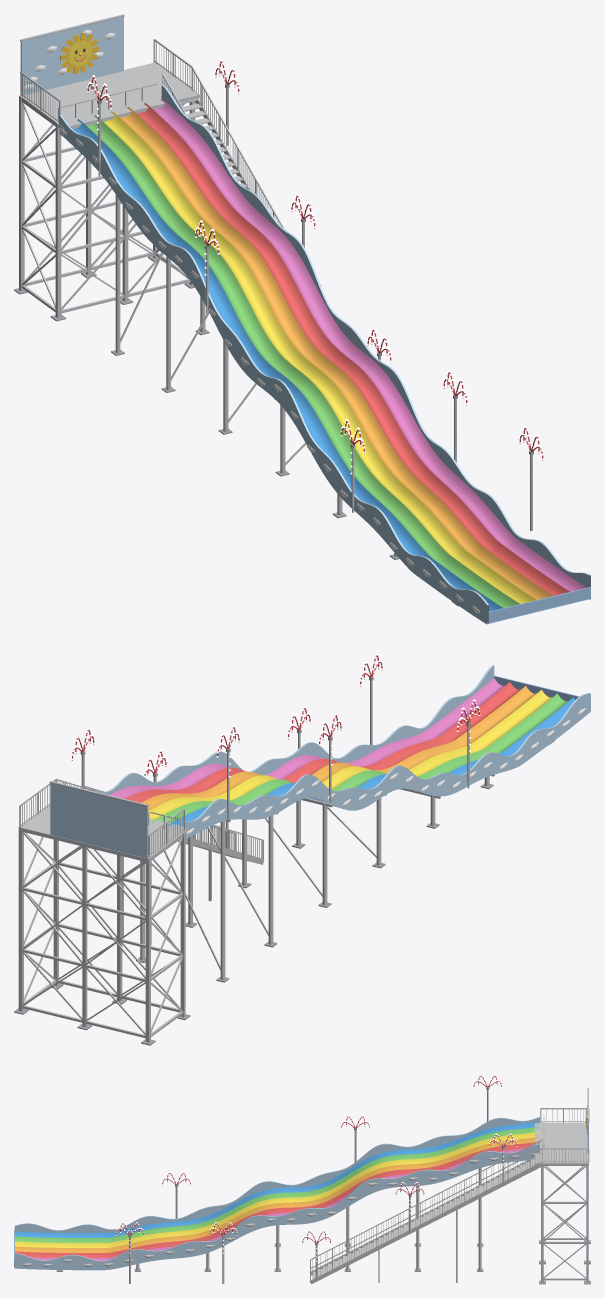
The picture shows the model from 3 angles, top to bottom: view 1: azimuth 30°, elevation 25°; view 2: azimuth 150°, elevation 25°; view 3: azimuth 270°, elevation 25°; orthographic projection. The views are drawn at different scales.
Parts seen in each view (by area): view 1: base; view 2: base; view 3: base.
Boxes of the visible parts, x1,y1,x2,y2 form: base: (14, 14, 590, 624); base: (14, 653, 590, 1045); base: (14, 1074, 590, 1284).
Size of the model in its own units: 6.62 by 11.96 by 37.08.
